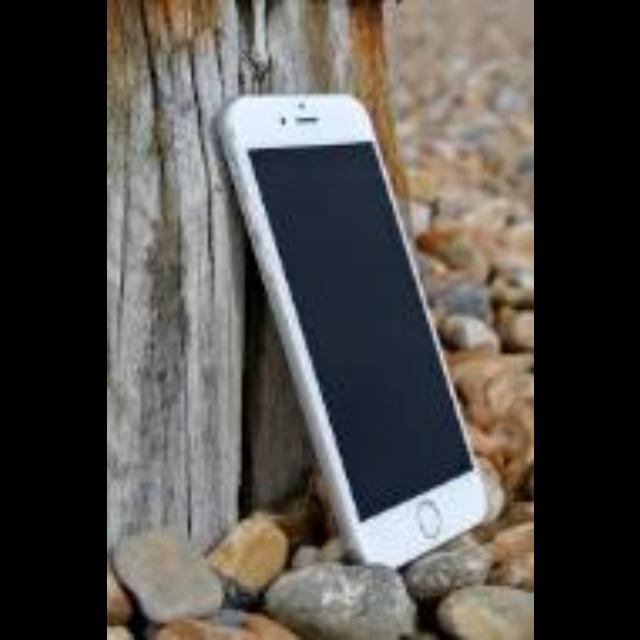Phone: (222, 94, 488, 566)
